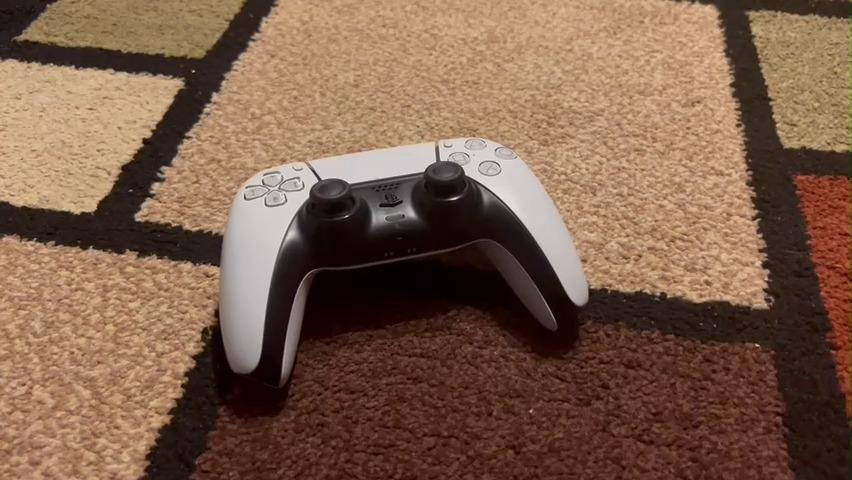controller: (200, 126, 631, 394)
